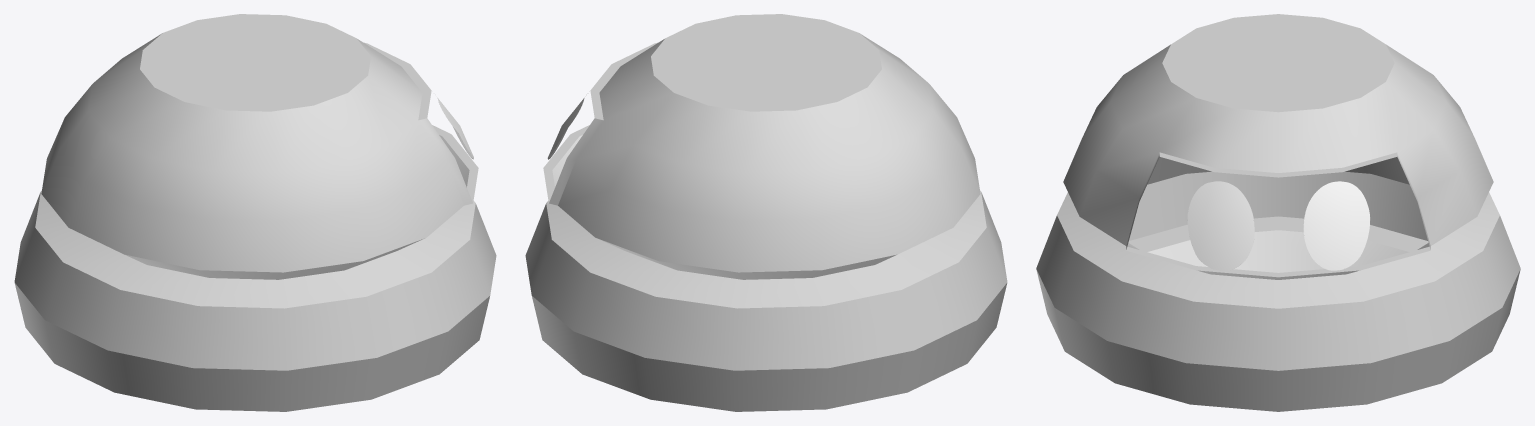
The model's file is Spark.fbx.
3 views of the same model, side by side, from view 1: azimuth 30°, elevation 25°; view 2: azimuth 150°, elevation 25°; view 3: azimuth 270°, elevation 25° (orthographic).
Visible parts, largest first — view 1: Cylinder; view 2: Cylinder; view 3: Cylinder.
Part boxes in pixels (x1,y1,x2,y2): Cylinder: (14, 14, 496, 411); Cylinder: (525, 14, 1007, 411); Cylinder: (1036, 14, 1520, 411).
Size of the model in its own units: 219 by 139 by 219.
